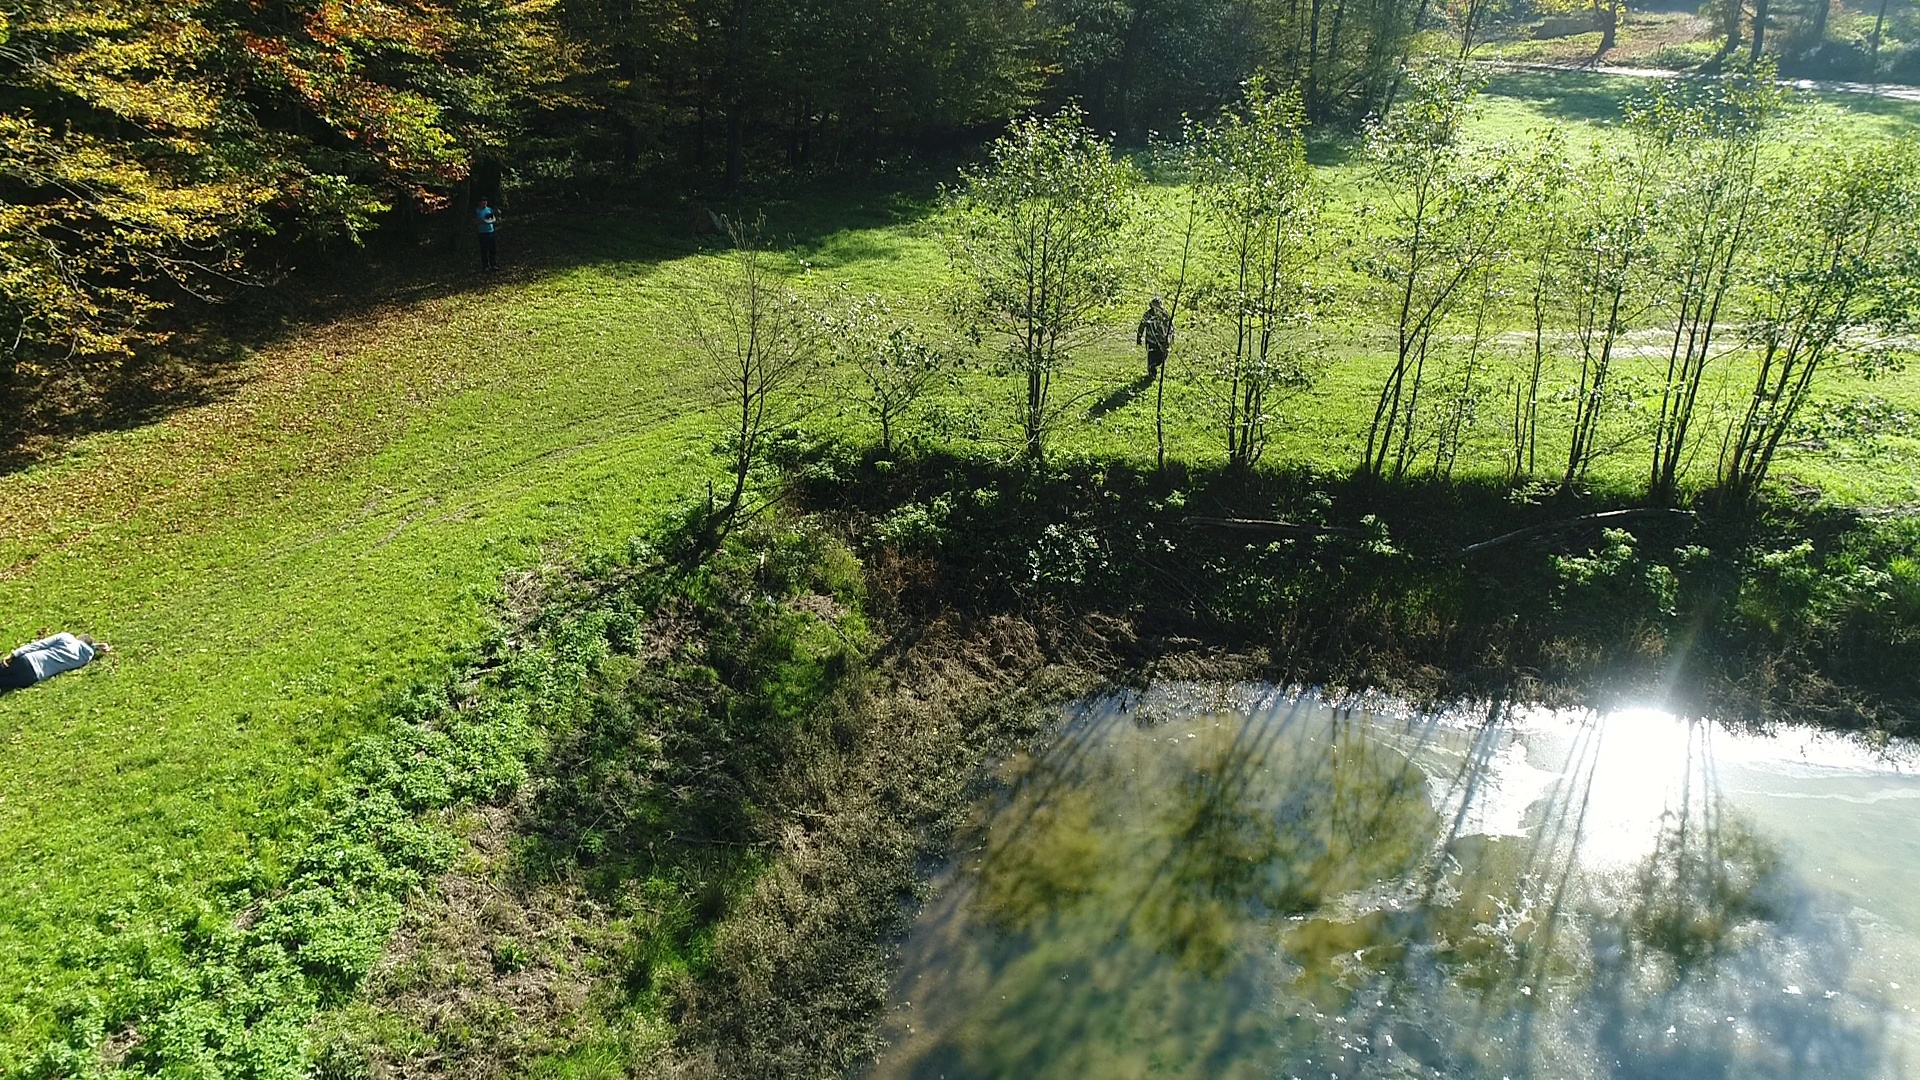person: (1, 631, 106, 701), (1136, 296, 1177, 387), (477, 197, 499, 275)
